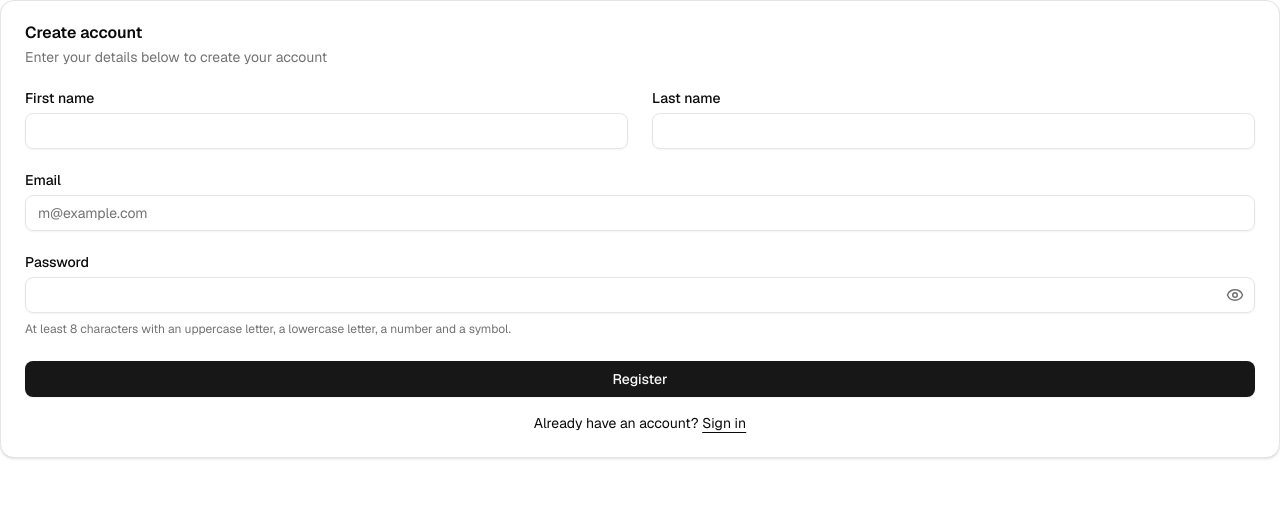
it: RegisterForm › shows the conflict error from the server
In the field labelled "First name": (326, 131) [25,113,628,149], type "John"
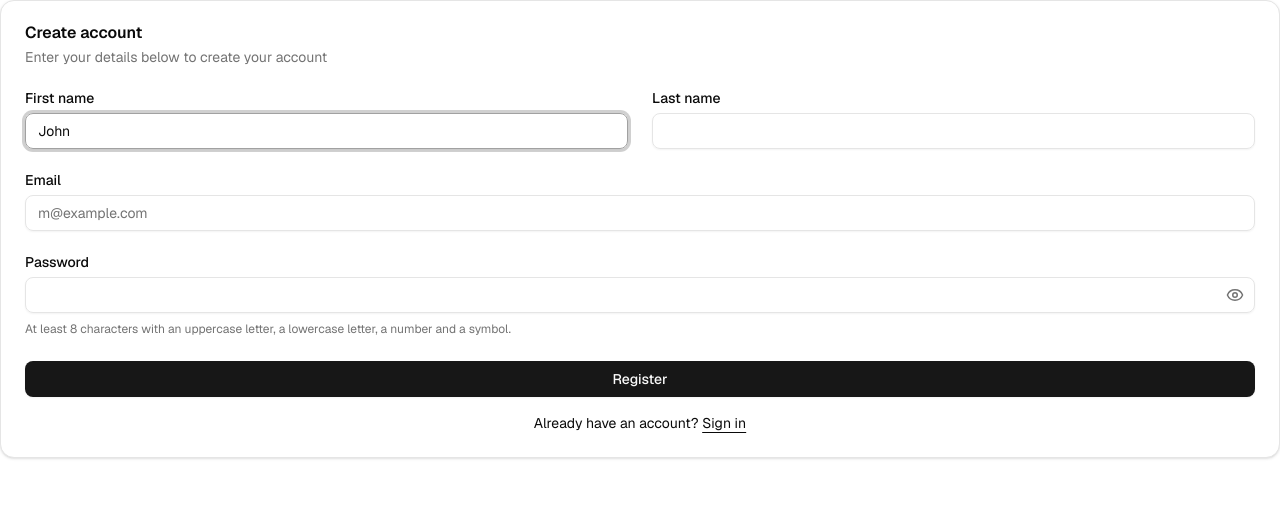
In the field labelled "Last name": (954, 131) [652,113,1255,149], type "Doe"
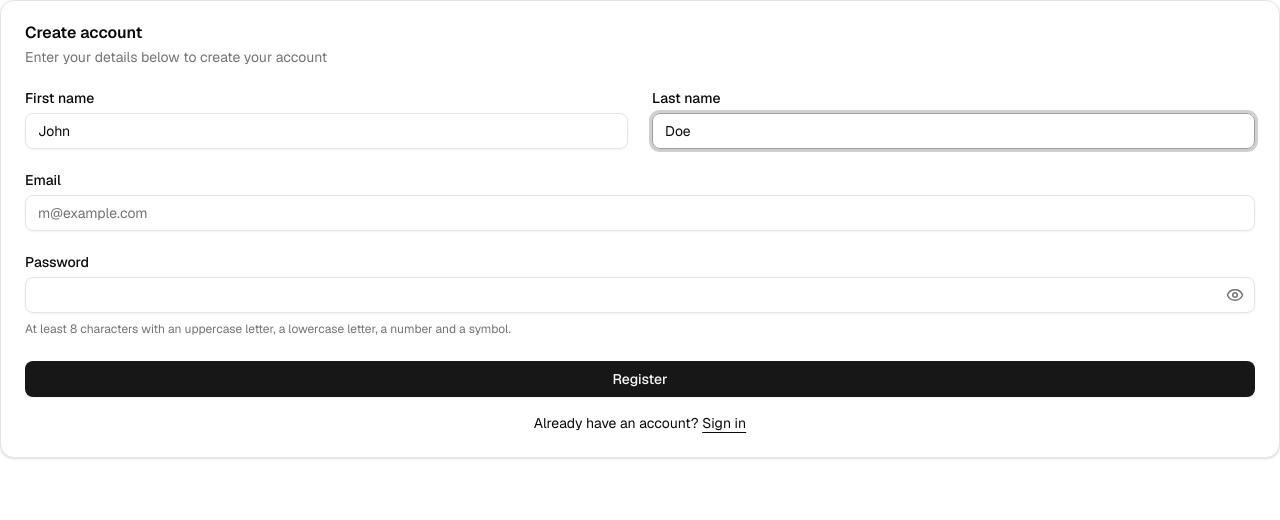
In the field labelled "Email": (640, 213) [25,195,1255,231], type "john@example.com"
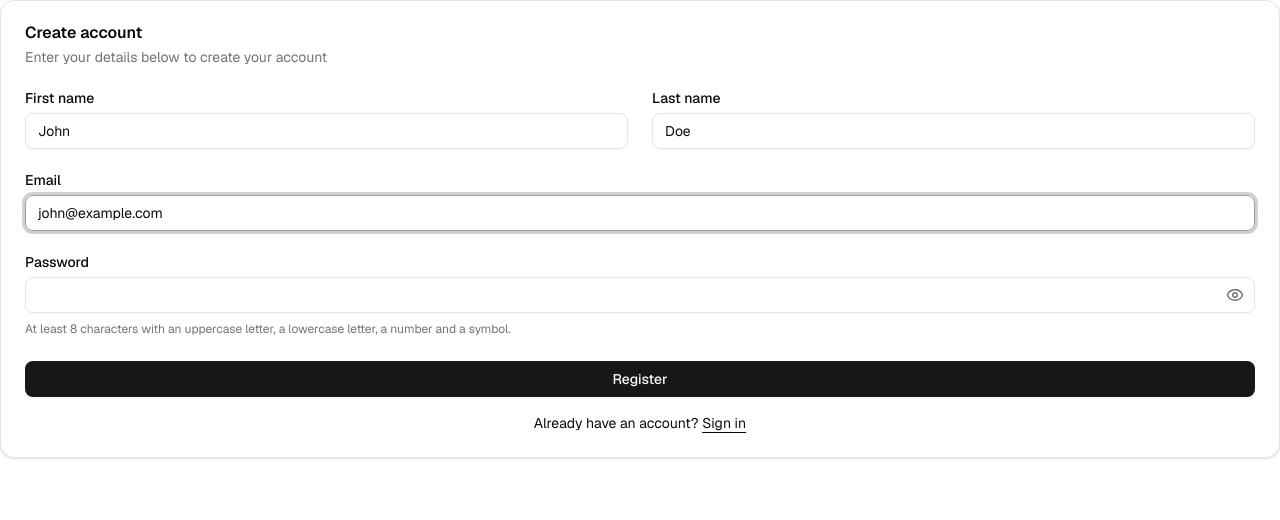
In the password field labelled "Password": (640, 295) [25,277,1255,313], type "Str0ng!Passw0rd"
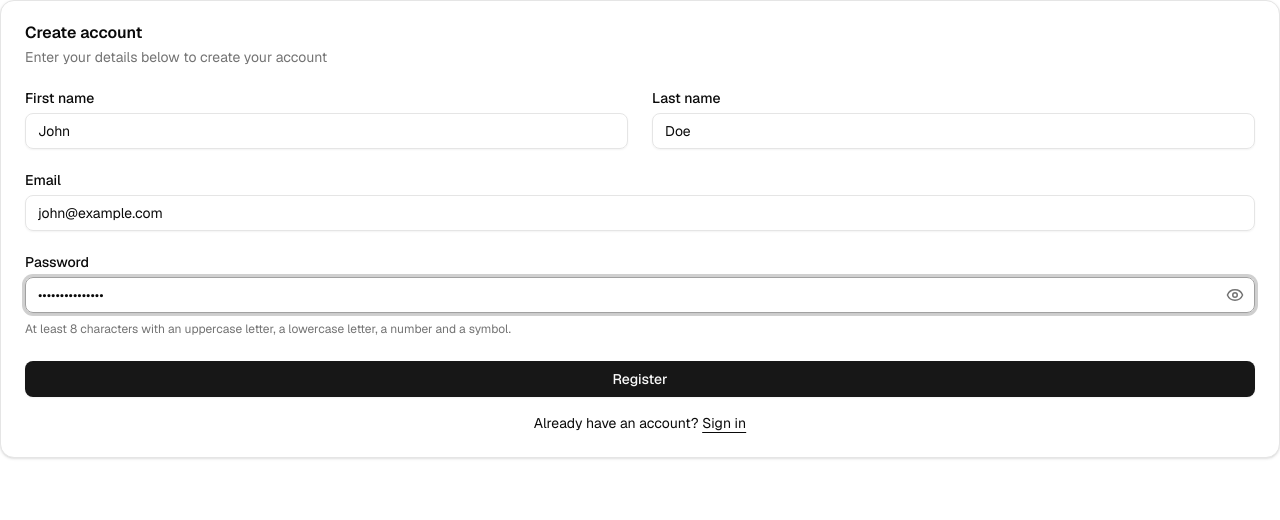
Click the button "Register": (640, 379) [25,361,1255,397]
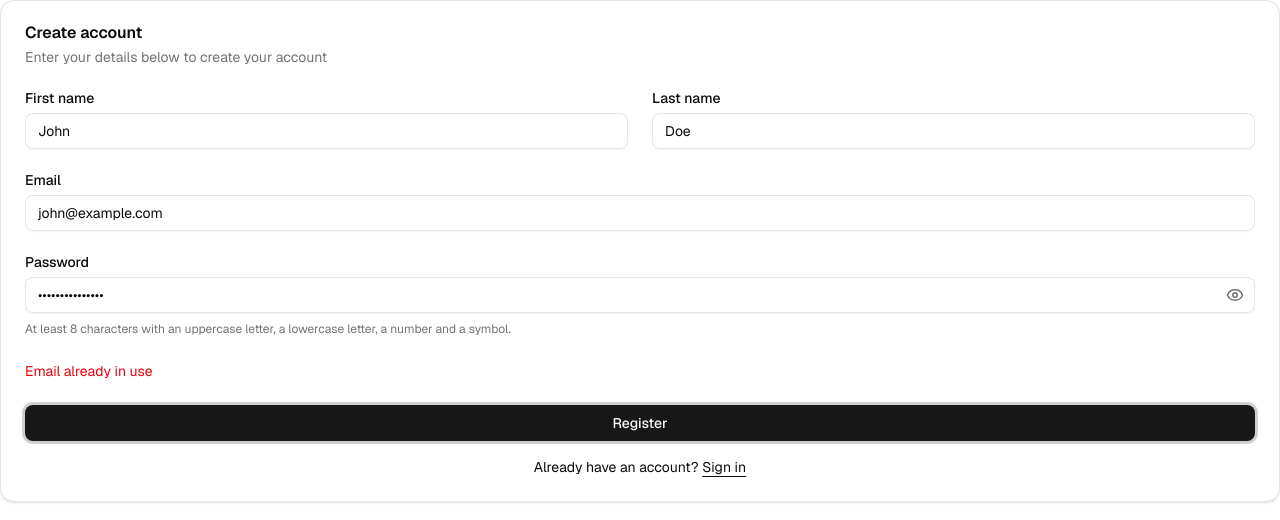
Expected: the message reads "Email already in use", [25,362,152,380]
